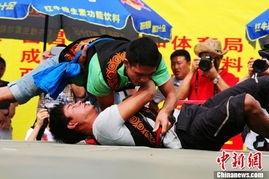falling: (35, 65, 269, 152)
